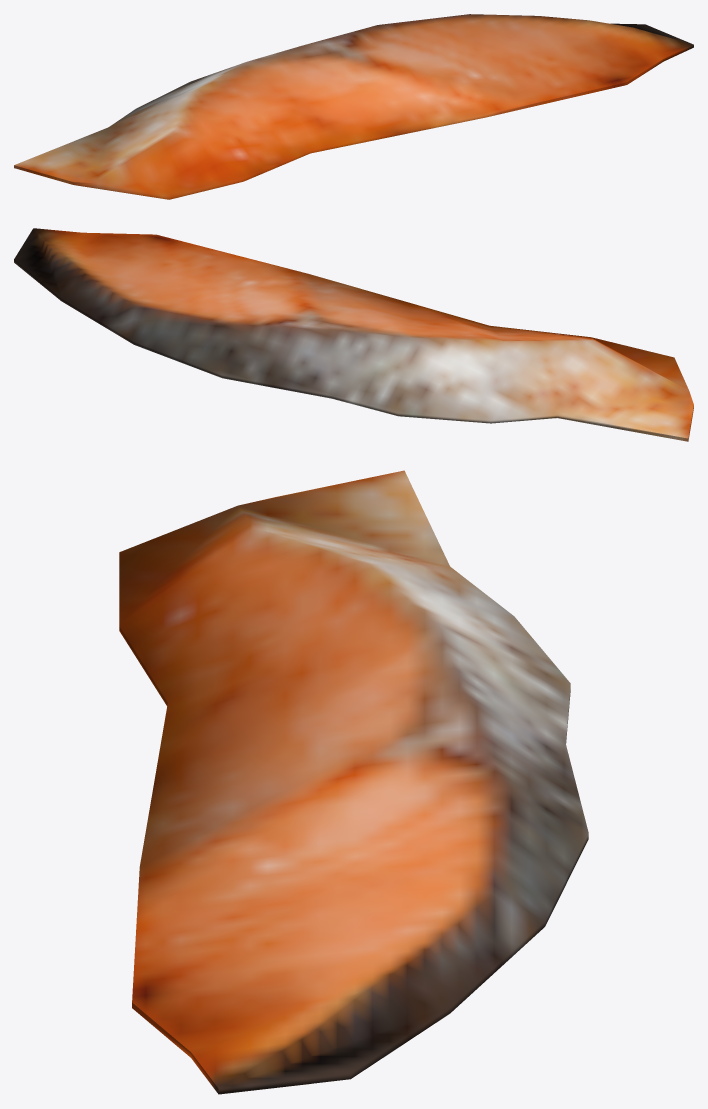
The model's file is dinerfoods09b.fbx.
The picture shows the model from 3 angles, top to bottom: view 1: azimuth 30°, elevation 25°; view 2: azimuth 150°, elevation 25°; view 3: azimuth 270°, elevation 25°; orthographic projection. The views are drawn at different scales.
Parts seen in each view (by area): view 1: dinerfoods09b; view 2: dinerfoods09b; view 3: dinerfoods09b.
Part boxes in pixels (left/top/right/bottom): dinerfoods09b: left=14, top=14, right=693, bottom=199; dinerfoods09b: left=14, top=228, right=693, bottom=441; dinerfoods09b: left=119, top=470, right=588, bottom=1094.
Size of the model in its own units: 23.14 by 1.88 by 7.43.
